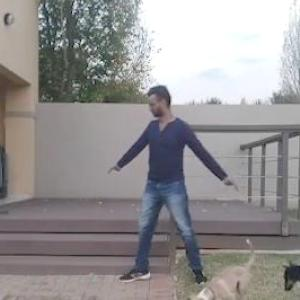land: (106, 84, 245, 286)
